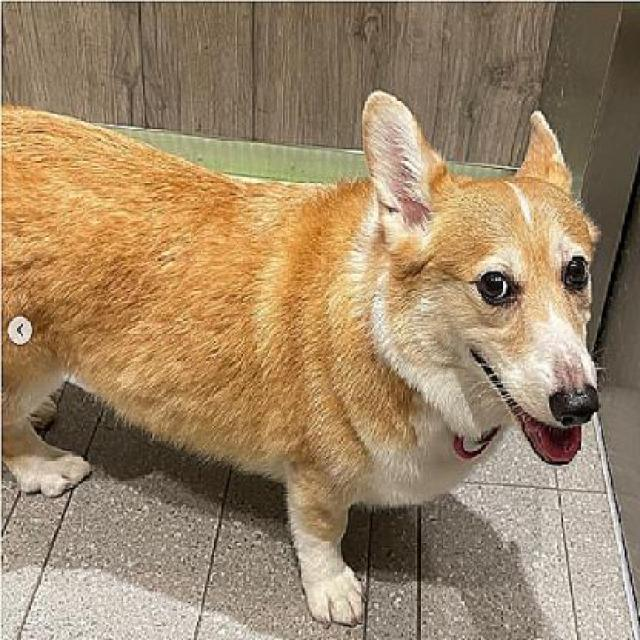Dog: (3, 83, 602, 628)
